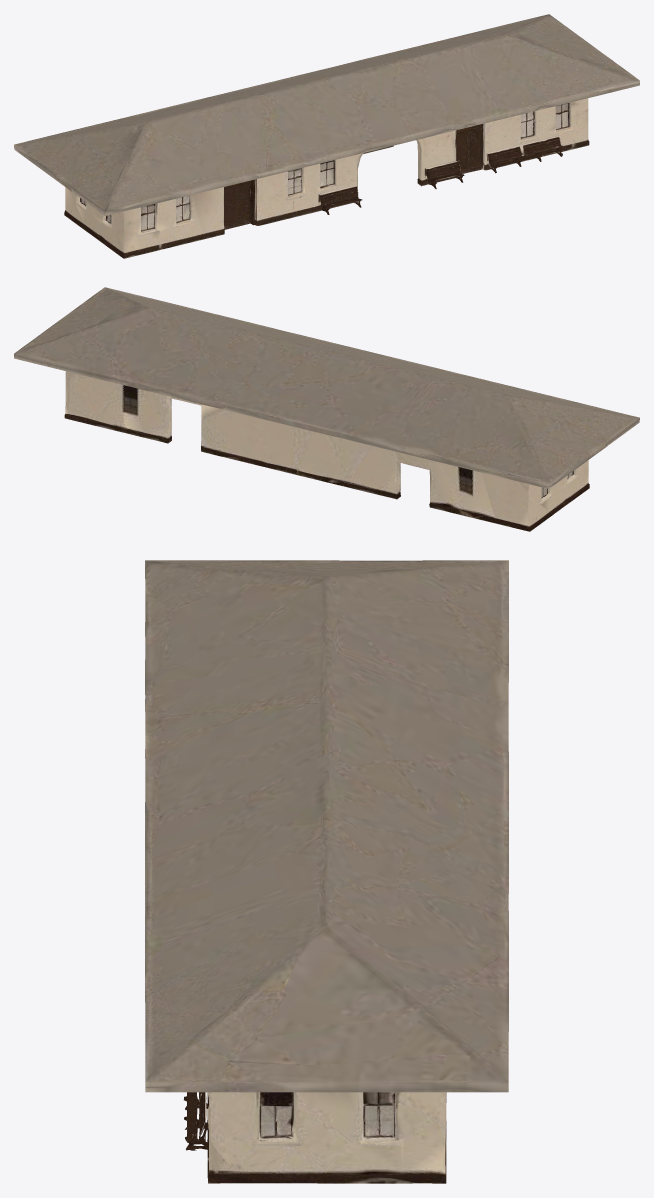
The model's file is 01M3WGHD4YFVX2EHF8ZX5WXY0M.glb.
The picture shows the model from 3 angles, top to bottom: view 1: azimuth 30°, elevation 25°; view 2: azimuth 150°, elevation 25°; view 3: azimuth 270°, elevation 25°; orthographic projection. The views are drawn at different scales.
Size of the model in its own units: 1.9 by 0.3471 by 0.5585.
1 material, 1 textured.
